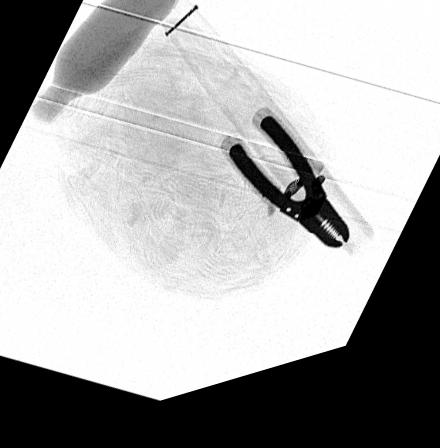Pliers: (226, 129, 349, 267)
